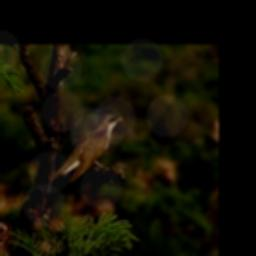Cuckoo: (49, 111, 123, 184)
